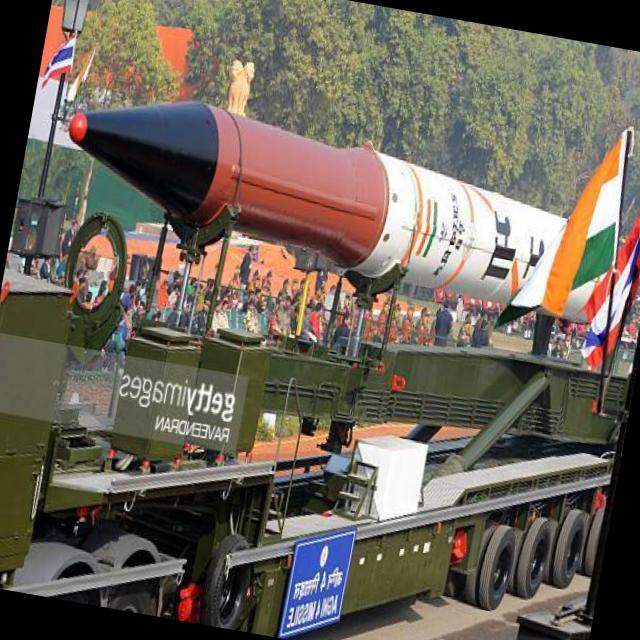rocket: (45, 76, 568, 332)
